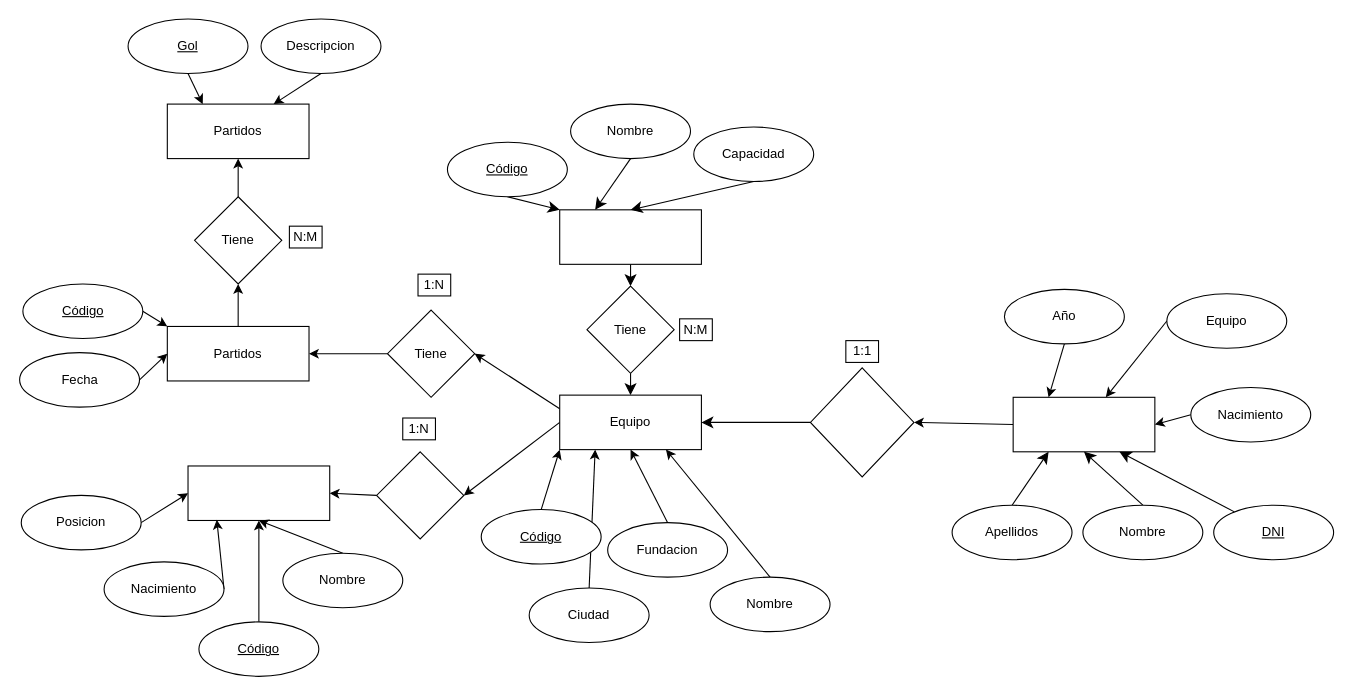
The diagram is 1353 pixels wide and 695 high, and some of its shapes have lost their labels. The centre of each missing label's shape, as x and y in pixels:
"Estadio" belongs at point 630,236.
"Juega" belongs at point 420,495.
"Jugador" belongs at point 258,492.
"Pertenece" belongs at point 861,422.
"Presidente" belongs at point 1083,424.
